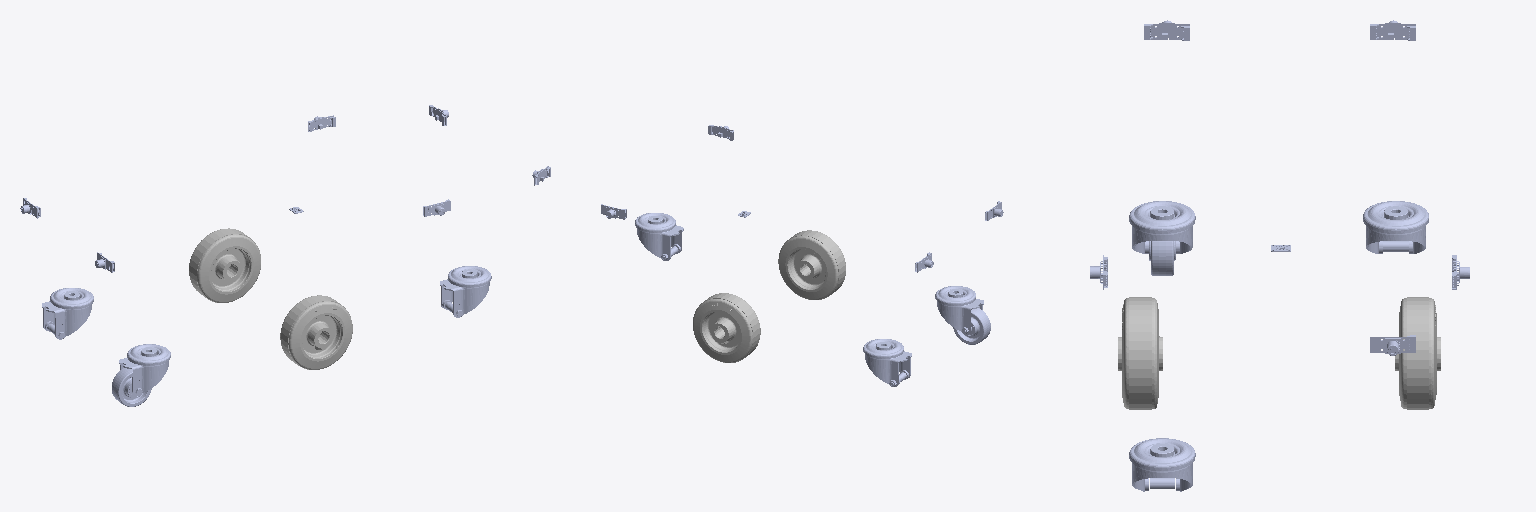
--- Render facts (derived) ---
Views: 3 orthographic renders of the robot side by side, from view 1: azimuth 30°, elevation 25°; view 2: azimuth 150°, elevation 25°; view 3: azimuth 270°, elevation 25°.
Model smr100e2_description with 22 links and 21 joints (10 continuous, 11 fixed), rooted at base_link, posed every joint at zero.
Visible links, largest first — view 1: wheel_right_link, wheel_left_link, caster_rear_left_arm_link, caster_front_right_arm_link, caster_rear_right_arm_link, caster_rear_right_wheel_link; view 2: wheel_left_link, wheel_right_link, caster_rear_left_arm_link, caster_front_right_arm_link, caster_rear_right_arm_link, caster_rear_right_wheel_link; view 3: wheel_right_link, wheel_left_link, caster_rear_left_arm_link, caster_front_right_arm_link, caster_rear_right_arm_link, caster_rear_right_wheel_link, ultrasonic_front_left_link, ultrasonic_rear_right_link, ultrasonic_rear_left_link.
Link boxes in pixels (x1=…): wheel_right_link: x1=280, y1=295, x2=352, y2=369; wheel_left_link: x1=189, y1=228, x2=260, y2=302; caster_rear_left_arm_link: x1=42, y1=288, x2=93, y2=339; caster_front_right_arm_link: x1=440, y1=266, x2=491, y2=317; caster_rear_right_arm_link: x1=119, y1=344, x2=170, y2=395; caster_rear_right_wheel_link: x1=112, y1=368, x2=151, y2=406; wheel_left_link: x1=693, y1=293, x2=760, y2=362; wheel_right_link: x1=778, y1=230, x2=845, y2=299; caster_rear_left_arm_link: x1=863, y1=339, x2=911, y2=386; caster_front_right_arm_link: x1=635, y1=213, x2=683, y2=260; caster_rear_right_arm_link: x1=935, y1=286, x2=983, y2=334; caster_rear_right_wheel_link: x1=953, y1=308, x2=990, y2=344; wheel_right_link: x1=1118, y1=297, x2=1162, y2=409; wheel_left_link: x1=1395, y1=297, x2=1440, y2=409; caster_rear_left_arm_link: x1=1363, y1=201, x2=1428, y2=253; caster_front_right_arm_link: x1=1129, y1=438, x2=1195, y2=491; caster_rear_right_arm_link: x1=1129, y1=201, x2=1195, y2=253; caster_rear_right_wheel_link: x1=1149, y1=241, x2=1175, y2=275; ultrasonic_front_left_link: x1=1370, y1=335, x2=1415, y2=355; ultrasonic_rear_right_link: x1=1144, y1=20, x2=1189, y2=40; ultrasonic_rear_left_link: x1=1370, y1=20, x2=1415, y2=40.
Size in the robot's own frame: 0.9869 by 0.5054 by 0.3376 metres.
12 mesh visuals loaded from 22 distinct referenced files (12 binary STL); not drawn: 10 (reference not matched to a file when rendering).

URDF robot description (smr100e2_description):
<?xml version="1.0" encoding="utf-8"?>
<!-- This URDF was automatically created by SolidWorks to URDF Exporter! Originally created by Stephen Brawner ([email redacted]) 
     Commit Version: 1.5.1-0-g916b5db  Build Version: 1.5.7152.31018
     For more information, please see http://wiki.ros.org/sw_urdf_exporter -->
<robot
  name="smr100e2_description">
  <link
    name="base_link">
    <inertial>
      <origin
        xyz="-0.046026 -0.00048477 0.26269"
        rpy="0 0 0" />
      <mass
        value="31.222" />
      <inertia
        ixx="1.0343"
        ixy="-0.023468"
        ixz="0.035244"
        iyy="2.3307"
        iyz="-0.0070175"
        izz="2.483" />
    </inertial>
    <visual>
      <origin
        xyz="0 0 0"
        rpy="0 0 0" />
      <geometry>
        <mesh
          filename="package://smr100e2_description/meshes/base_link.STL" />
      </geometry>
      <material
        name="">
        <color
          rgba="0.89804 0.91765 0.92941 1" />
      </material>
    </visual>
    <collision>
      <origin
        xyz="0 0 0"
        rpy="0 0 0" />
      <geometry>
        <mesh
          filename="package://smr100e2_description/meshes/base_link.STL" />
      </geometry>
    </collision>
  </link>
  <link
    name="wheel_left_link">
    <inertial>
      <origin
        xyz="5.7206E-08 3.3262E-05 -9.2679E-05"
        rpy="0 0 0" />
      <mass
        value="4.9554" />
      <inertia
        ixx="0.0087272"
        ixy="-4.3288E-09"
        ixz="-2.7053E-08"
        iyy="0.01571"
        iyz="2.8551E-06"
        izz="0.0087185" />
    </inertial>
    <visual>
      <origin
        xyz="0 0 0"
        rpy="0 0 0" />
      <geometry>
        <mesh
          filename="package://smr100e2_description/meshes/wheel_left_link.STL" />
      </geometry>
      <material
        name="">
        <color
          rgba="0.79216 0.79216 0.79216 1" />
      </material>
    </visual>
    <collision>
      <origin
        xyz="0 0 0"
        rpy="0 0 0" />
      <geometry>
        <mesh
          filename="package://smr100e2_description/meshes/wheel_left_link.STL" />
      </geometry>
    </collision>
  </link>
  <joint
    name="wheel_left_joint"
    type="continuous">
    <origin
      xyz="0 0.184 0.075"
      rpy="0 0 0" />
    <parent
      link="base_link" />
    <child
      link="wheel_left_link" />
    <axis
      xyz="0 -1 0" />
    <limit
      effort="0"
      velocity="21" />
  </joint>
  <link
    name="caster_front_left_arm_link">
    <inertial>
      <origin
        xyz="-0.0083559 6.8467E-05 -0.021877"
        rpy="0 0 0" />
      <mass
        value="0.11891" />
      <inertia
        ixx="0.00011866"
        ixy="2.5986E-07"
        ixz="-3.3182E-05"
        iyy="0.00013039"
        iyz="3.8798E-07"
        izz="0.00013729" />
    </inertial>
    <visual>
      <origin
        xyz="0 0 0"
        rpy="0 0 0" />
      <geometry>
        <mesh
          filename="package://smr100e2_description/meshes/caster_front_left_arm_link.STL" />
      </geometry>
      <material
        name="">
        <color
          rgba="0.79216 0.81961 0.93333 1" />
      </material>
    </visual>
    <collision>
      <origin
        xyz="0 0 0"
        rpy="0 0 0" />
      <geometry>
        <mesh
          filename="package://smr100e2_description/meshes/caster_front_left_arm_link.STL" />
      </geometry>
    </collision>
  </link>
  <joint
    name="caster_front_left_arm_joint"
    type="continuous">
    <origin
      xyz="0.3725 0.155 0.11"
      rpy="0 0 0" />
    <parent
      link="base_link" />
    <child
      link="caster_front_left_arm_link" />
    <axis
      xyz="0 0 1" />
  </joint>
  <link
    name="caster_front_left_wheel_link">
    <inertial>
      <origin
        xyz="3.41579619150684E-05 1.00246685701133E-05 9.06356100988104E-06"
        rpy="0 0 0" />
      <mass
        value="0.10622773912148" />
      <inertia
        ixx="5.31582091921393E-05"
        ixy="-1.19552325590283E-08"
        ixz="1.63641579299917E-09"
        iyy="9.07905500875478E-05"
        iyz="-1.30943250319338E-08"
        izz="5.31454154966387E-05" />
    </inertial>
    <visual>
      <origin
        xyz="0 0 0"
        rpy="0 0 0" />
      <geometry>
        <mesh
          filename="package://smr100e2_description/meshes/caster_front_left_wheel_link.STL" />
      </geometry>
      <material
        name="">
        <color
          rgba="0.792156862745098 0.819607843137255 0.933333333333333 1" />
      </material>
    </visual>
    <collision>
      <origin
        xyz="0 0 0"
        rpy="0 0 0" />
      <geometry>
        <mesh
          filename="package://smr100e2_description/meshes/caster_front_left_wheel_link.STL" />
      </geometry>
    </collision>
  </link>
  <joint
    name="caster_front_left_wheel_joint"
    type="continuous">
    <origin
      xyz="-0.04 0 -0.07"
      rpy="0 1.5708 0" />
    <parent
      link="caster_front_left_arm_link" />
    <child
      link="caster_front_left_wheel_link" />
    <axis
      xyz="0 -1 0" />
  </joint>
  <link
    name="caster_rear_left_arm_link">
    <inertial>
      <origin
        xyz="-0.008355850944051 6.84673200635755E-05 -0.0218772617133344"
        rpy="0 0 0" />
      <mass
        value="0.11890585691937" />
      <inertia
        ixx="0.000118659392121093"
        ixy="2.59862865197447E-07"
        ixz="-3.31821021003566E-05"
        iyy="0.000130389155469755"
        iyz="3.87981608747489E-07"
        izz="0.000137285155509039" />
    </inertial>
    <visual>
      <origin
        xyz="0 0 0"
        rpy="0 0 0" />
      <geometry>
        <mesh
          filename="package://smr100e2_description/meshes/caster_rear_left_arm_link.STL" />
      </geometry>
      <material
        name="">
        <color
          rgba="0.792156862745098 0.819607843137255 0.933333333333333 1" />
      </material>
    </visual>
    <collision>
      <origin
        xyz="0 0 0"
        rpy="0 0 0" />
      <geometry>
        <mesh
          filename="package://smr100e2_description/meshes/caster_rear_left_arm_link.STL" />
      </geometry>
    </collision>
  </link>
  <joint
    name="caster_rear_left_arm_joint"
    type="continuous">
    <origin
      xyz="-0.3725 0.155 0.11"
      rpy="0 0 0" />
    <parent
      link="base_link" />
    <child
      link="caster_rear_left_arm_link" />
    <axis
      xyz="0 0 1" />
  </joint>
  <link
    name="caster_rear_left_wheel_link">
    <inertial>
      <origin
        xyz="3.41579619150822E-05 1.002466857003E-05 9.0635610097145E-06"
        rpy="0 0 0" />
      <mass
        value="0.106227739121479" />
      <inertia
        ixx="5.31582091921392E-05"
        ixy="-1.19552325590222E-08"
        ixz="1.63641579318855E-09"
        iyy="9.07905500875474E-05"
        iyz="-1.30943250319557E-08"
        izz="5.31454154966383E-05" />
    </inertial>
    <visual>
      <origin
        xyz="0 0 0"
        rpy="0 0 0" />
      <geometry>
        <mesh
          filename="package://smr100e2_description/meshes/caster_rear_left_wheel_link.STL" />
      </geometry>
      <material
        name="">
        <color
          rgba="0.792156862745098 0.819607843137255 0.933333333333333 1" />
      </material>
    </visual>
    <collision>
      <origin
        xyz="0 0 0"
        rpy="0 0 0" />
      <geometry>
        <mesh
          filename="package://smr100e2_description/meshes/caster_rear_left_wheel_link.STL" />
      </geometry>
    </collision>
  </link>
  <joint
    name="caster_rear_left_wheel_joint"
    type="continuous">
    <origin
      xyz="-0.04 0 -0.07"
      rpy="0 1.5708 0" />
    <parent
      link="caster_rear_left_arm_link" />
    <child
      link="caster_rear_left_wheel_link" />
    <axis
      xyz="0 -1 0" />
  </joint>
  <link
    name="wheel_right_link">
    <inertial>
      <origin
        xyz="-5.72059102653878E-08 -3.32621060118998E-05 -9.26789475841489E-05"
        rpy="0 0 0" />
      <mass
        value="4.95544635924953" />
      <inertia
        ixx="0.00872719589168906"
        ixy="-4.32876753760574E-09"
        ixz="2.70527246089118E-08"
        iyy="0.0157098593873957"
        iyz="-2.85508393702386E-06"
        izz="0.00871854767880612" />
    </inertial>
    <visual>
      <origin
        xyz="0 0 0"
        rpy="0 0 0" />
      <geometry>
        <mesh
          filename="package://smr100e2_description/meshes/wheel_right_link.STL" />
      </geometry>
      <material
        name="">
        <color
          rgba="0.792156862745098 0.792156862745098 0.792156862745098 1" />
      </material>
    </visual>
    <collision>
      <origin
        xyz="0 0 0"
        rpy="0 0 0" />
      <geometry>
        <mesh
          filename="package://smr100e2_description/meshes/wheel_right_link.STL" />
      </geometry>
    </collision>
  </link>
  <joint
    name="wheel_right_joint"
    type="continuous">
    <origin
      xyz="0 -0.184 0.075"
      rpy="0 0 0" />
    <parent
      link="base_link" />
    <child
      link="wheel_right_link" />
    <axis
      xyz="0 1 0" />
    <limit
      effort="0"
      velocity="21" />
  </joint>
  <link
    name="caster_front_right_arm_link">
    <inertial>
      <origin
        xyz="-0.00835585094405666 6.84673200636032E-05 -0.0218772617133322"
        rpy="0 0 0" />
      <mass
        value="0.118905856919371" />
      <inertia
        ixx="0.000118659392121077"
        ixy="2.59862865197085E-07"
        ixz="-3.31821021003519E-05"
        iyy="0.000130389155469756"
        iyz="3.87981608747766E-07"
        izz="0.000137285155509056" />
    </inertial>
    <visual>
      <origin
        xyz="0 0 0"
        rpy="0 0 0" />
      <geometry>
        <mesh
          filename="package://smr100e2_description/meshes/caster_front_right_arm_link.STL" />
      </geometry>
      <material
        name="">
        <color
          rgba="0.792156862745098 0.819607843137255 0.933333333333333 1" />
      </material>
    </visual>
    <collision>
      <origin
        xyz="0 0 0"
        rpy="0 0 0" />
      <geometry>
        <mesh
          filename="package://smr100e2_description/meshes/caster_front_right_arm_link.STL" />
      </geometry>
    </collision>
  </link>
  <joint
    name="caster_front_right_arm_joint"
    type="continuous">
    <origin
      xyz="0.3725 -0.155 0.11"
      rpy="0 0 0" />
    <parent
      link="base_link" />
    <child
      link="caster_front_right_arm_link" />
    <axis
      xyz="0 0 1" />
  </joint>
  <link
    name="caster_front_right_wheel_link">
    <inertial>
      <origin
        xyz="3.41579619150337E-05 1.00246685700023E-05 9.0635610097145E-06"
        rpy="0 0 0" />
      <mass
        value="0.106227739121479" />
      <inertia
        ixx="5.31582091921392E-05"
        ixy="-1.19552325589556E-08"
        ixz="1.63641579320449E-09"
        iyy="9.07905500875475E-05"
        iyz="-1.30943250318352E-08"
        izz="5.31454154966384E-05" />
    </inertial>
    <visual>
      <origin
        xyz="0 0 0"
        rpy="0 0 0" />
      <geometry>
        <mesh
          filename="package://smr100e2_description/meshes/caster_front_right_wheel_link.STL" />
      </geometry>
      <material
        name="">
        <color
          rgba="0.792156862745098 0.819607843137255 0.933333333333333 1" />
      </material>
    </visual>
    <collision>
      <origin
        xyz="0 0 0"
        rpy="0 0 0" />
      <geometry>
        <mesh
          filename="package://smr100e2_description/meshes/caster_front_right_wheel_link.STL" />
      </geometry>
    </collision>
  </link>
  <joint
    name="caster_front_right_wheel_joint"
    type="continuous">
    <origin
      xyz="-0.04 0 -0.07"
      rpy="0 1.5708 0" />
    <parent
      link="caster_front_right_arm_link" />
    <child
      link="caster_front_right_wheel_link" />
    <axis
      xyz="0 1 0" />
  </joint>
  <link
    name="caster_rear_right_arm_link">
    <inertial>
      <origin
        xyz="-0.0083558509440565 6.8467320063742E-05 -0.0218772617133322"
        rpy="0 0 0" />
      <mass
        value="0.118905856919369" />
      <inertia
        ixx="0.000118659392121076"
        ixy="2.59862865197262E-07"
        ixz="-3.31821021003519E-05"
        iyy="0.000130389155469755"
        iyz="3.87981608748015E-07"
        izz="0.000137285155509056" />
    </inertial>
    <visual>
      <origin
        xyz="0 0 0"
        rpy="0 0 0" />
      <geometry>
        <mesh
          filename="package://smr100e2_description/meshes/caster_rear_right_arm_link.STL" />
      </geometry>
      <material
        name="">
        <color
          rgba="0.792156862745098 0.819607843137255 0.933333333333333 1" />
      </material>
    </visual>
    <collision>
      <origin
        xyz="0 0 0"
        rpy="0 0 0" />
      <geometry>
        <mesh
          filename="package://smr100e2_description/meshes/caster_rear_right_arm_link.STL" />
      </geometry>
    </collision>
  </link>
  <joint
    name="caster_rear_right_arm_joint"
    type="continuous">
    <origin
      xyz="-0.3725 -0.155 0.11"
      rpy="0 0 0" />
    <parent
      link="base_link" />
    <child
      link="caster_rear_right_arm_link" />
    <axis
      xyz="0 0 1" />
  </joint>
  <link
    name="caster_rear_right_wheel_link">
    <inertial>
      <origin
        xyz="3.41579619150337E-05 1.00246685700578E-05 9.06356100960348E-06"
        rpy="0 0 0" />
      <mass
        value="0.10622773912148" />
      <inertia
        ixx="5.31582091921392E-05"
        ixy="-1.19552325589846E-08"
        ixz="1.63641579317299E-09"
        iyy="9.07905500875477E-05"
        iyz="-1.30943250317913E-08"
        izz="5.31454154966386E-05" />
    </inertial>
    <visual>
      <origin
        xyz="0 0 0"
        rpy="0 0 0" />
      <geometry>
        <mesh
          filename="package://smr100e2_description/meshes/caster_rear_right_wheel_link.STL" />
      </geometry>
      <material
        name="">
        <color
          rgba="0.792156862745098 0.819607843137255 0.933333333333333 1" />
      </material>
    </visual>
    <collision>
      <origin
        xyz="0 0 0"
        rpy="0 0 0" />
      <geometry>
        <mesh
          filename="package://smr100e2_description/meshes/caster_rear_right_wheel_link.STL" />
      </geometry>
    </collision>
  </link>
  <joint
    name="caster_rear_right_wheel_joint"
    type="continuous">
    <origin
      xyz="-0.04 0 -0.07"
      rpy="0 1.5708 0" />
    <parent
      link="caster_rear_right_arm_link" />
    <child
      link="caster_rear_right_wheel_link" />
    <axis
      xyz="0 1 0" />
  </joint>
  <link
    name="lidar_front_right_link">
    <inertial>
      <origin
        xyz="-0.00233498111285663 -1.38297305401132E-06 -0.0129543211216719"
        rpy="0 0 0" />
      <mass
        value="0.096744416647924" />
      <inertia
        ixx="6.75053726522406E-05"
        ixy="-4.85105087585742E-08"
        ixz="-2.38171293229343E-06"
        iyy="8.2230289282585E-05"
        iyz="-1.88559800565705E-08"
        izz="0.000116331697118463" />
    </inertial>
    <visual>
      <origin
        xyz="0 0 0"
        rpy="0 0 0" />
      <geometry>
        <mesh
          filename="package://smr100e2_description/meshes/lidar_front_right_link.STL" />
      </geometry>
      <material
        name="">
        <color
          rgba="0.898039215686275 0.917647058823529 0.929411764705882 1" />
      </material>
    </visual>
    <collision>
      <origin
        xyz="0 0 0"
        rpy="0 0 0" />
      <geometry>
        <mesh
          filename="package://smr100e2_description/meshes/lidar_front_right_link.STL" />
      </geometry>
    </collision>
  </link>
  <joint
    name="lidar_front_right_joint"
    type="fixed">
    <origin
      xyz="0.4425 0 0.15335"
      rpy="0 0 0" />
    <parent
      link="base_link" />
    <child
      link="lidar_front_right_link" />
    <axis
      xyz="0 0 0" />
  </joint>
  <link
    name="lidar_rear_left_link">
    <inertial>
      <origin
        xyz="-0.00233498111285729 -1.38297305494147E-06 -0.0129543211216724"
        rpy="0 0 0" />
      <mass
        value="0.0967444166479226" />
      <inertia
        ixx="6.75053726522404E-05"
        ixy="-4.85105087574827E-08"
        ixz="-2.38171293229237E-06"
        iyy="8.22302892825826E-05"
        iyz="-1.88559800556491E-08"
        izz="0.000116331697118462" />
    </inertial>
    <visual>
      <origin
        xyz="0 0 0"
        rpy="0 0 0" />
      <geometry>
        <mesh
          filename="package://smr100e2_description/meshes/lidar_rear_left_link.STL" />
      </geometry>
      <material
        name="">
        <color
          rgba="0.898039215686275 0.917647058823529 0.929411764705882 1" />
      </material>
    </visual>
    <collision>
      <origin
        xyz="0 0 0"
        rpy="0 0 0" />
      <geometry>
        <mesh
          filename="package://smr100e2_description/meshes/lidar_rear_left_link.STL" />
      </geometry>
    </collision>
  </link>
  <joint
    name="lidar_rear_left_joint"
    type="fixed">
    <origin
      xyz="-0.4425 0 0.15335"
      rpy="0 0 3.1416" />
    <parent
      link="base_link" />
    <child
      link="lidar_rear_left_link" />
    <axis
      xyz="0 0 0" />
  </joint>
  <link
    name="imu_link">
    <inertial>
      <origin
        xyz="-6.9350586529713E-05 2.10656642644566E-05 -0.00172272577964405"
        rpy="0 0 0" />
      <mass
        value="0.000911356888660493" />
      <inertia
        ixx="2.8541034821061E-08"
        ixy="-2.22197427857319E-10"
        ixz="7.87903579180546E-11"
        iyy="4.99346433608488E-08"
        iyz="-4.13194761847017E-11"
        izz="7.78569805080495E-08" />
    </inertial>
    <visual>
      <origin
        xyz="0 0 0"
        rpy="0 0 0" />
      <geometry>
        <mesh
          filename="package://smr100e2_description/meshes/imu_link.STL" />
      </geometry>
      <material
        name="">
        <color
          rgba="0.792156862745098 0.819607843137255 0.933333333333333 1" />
      </material>
    </visual>
    <collision>
      <origin
        xyz="0 0 0"
        rpy="0 0 0" />
      <geometry>
        <mesh
          filename="package://smr100e2_description/meshes/imu_link.STL" />
      </geometry>
    </collision>
  </link>
  <joint
    name="imu_joint"
    type="fixed">
    <origin
      xyz="0.061 0.0025 0.2591"
      rpy="0 0 -1.5708" />
    <parent
      link="base_link" />
    <child
      link="imu_link" />
    <axis
      xyz="0 0 0" />
  </joint>
  <link
    name="ultrasonic_front_right_side_link">
    <inertial>
      <origin
        xyz="-0.0140934459768421 0.000342739553301497 -0.000343035134600544"
        rpy="0 0 0" />
      <mass
        value="0.00862358242165751" />
      <inertia
        ixx="1.88412480130025E-06"
        ixy="1.71411632756251E-08"
        ixz="-1.98565508058437E-08"
        iyy="6.52390756644082E-07"
        iyz="-2.04292873861296E-08"
        izz="2.00499062028754E-06" />
    </inertial>
    <visual>
      <origin
        xyz="0 0 0"
        rpy="0 0 0" />
      <geometry>
        <mesh
          filename="package://smr100e2_description/meshes/ultrasonic_front_right_side_link.STL" />
      </geometry>
      <material
        name="">
        <color
          rgba="0.792156862745098 0.819607843137255 0.933333333333333 1" />
      </material>
    </visual>
    <collision>
      <origin
        xyz="0 0 0"
        rpy="0 0 0" />
      <geometry>
        <mesh
          filename="package://smr100e2_description/meshes/ultrasonic_front_right_side_link.STL" />
      </geometry>
    </collision>
  </link>
  <joint
    name="ultrasonic_front_right_side_joint"
    type="fixed">
    <origin
      xyz="0.2522 -0.2517 0.3115"
      rpy="0 0 -1.5708" />
    <parent
      link="base_link" />
    <child
      link="ultrasonic_front_right_side_link" />
    <axis
      xyz="0 0 0" />
  </joint>
  <link
    name="ultrasonic_rear_right_side_link">
    <inertial>
      <origin
        xyz="-0.014093445976842 0.000342739553301497 -0.0003430351346006"
        rpy="0 0 0" />
      <mass
        value="0.0086235824216575" />
      <inertia
        ixx="1.88412480130025E-06"
        ixy="1.71411632756239E-08"
        ixz="-1.98565508058438E-08"
        iyy="6.52390756644079E-07"
        iyz="-2.04292873861312E-08"
        izz="2.00499062028754E-06" />
    </inertial>
    <visual>
      <origin
        xyz="0 0 0"
        rpy="0 0 0" />
      <geometry>
        <mesh
          filename="package://smr100e2_description/meshes/ultrasonic_rear_right_side_link.STL" />
      </geometry>
      <material
        name="">
        <color
          rgba="0.792156862745098 0.819607843137255 0.933333333333333 1" />
      </material>
    </visual>
    <collision>
      <origin
        xyz="0 0 0"
        rpy="0 0 0" />
      <geometry>
        <mesh
          filename="package://smr100e2_description/meshes/ultrasonic_rear_right_side_link.STL" />
      </geometry>
    </collision>
  </link>
  <joint
    name="ultrasonic_rear_right_side_joint"
    type="fixed">
    <origin
      xyz="-0.2878 -0.2517 0.3115"
      rpy="0 0 -1.5708" />
    <parent
      link="base_link" />
    <child
      link="ultrasonic_rear_right_side_link" />
    <axis
      xyz="0 0 0" />
  </joint>
  <link
    name="ultrasonic_rear_right_link">
    <inertial>
      <origin
        xyz="-0.0140934459768421 0.000342739553301497 -0.000343035134600655"
        rpy="0 0 0" />
      <mass
        value="0.00862358242165749" />
      <inertia
        ixx="1.88412480130025E-06"
        ixy="1.71411632756204E-08"
        ixz="-1.98565508058432E-08"
        iyy="6.5239075664408E-07"
        iyz="-2.04292873861313E-08"
        izz="2.00499062028753E-06" />
    </inertial>
    <visual>
      <origin
        xyz="0 0 0"
        rpy="0 0 0" />
      <geometry>
        <mesh
          filename="package://smr100e2_description/meshes/ultrasonic_rear_right_link.STL" />
      </geometry>
      <material
        name="">
        <color
          rgba="0.792156862745098 0.819607843137255 0.933333333333333 1" />
      </material>
    </visual>
    <collision>
      <origin
        xyz="0 0 0"
        rpy="0 0 0" />
      <geometry>
        <mesh
          filename="package://smr100e2_description/meshes/ultrasonic_rear_right_link.STL" />
      </geometry>
    </collision>
  </link>
  <joint
    name="ultrasonic_rear_right_joint"
    type="fixed">
    <origin
      xyz="-0.4902 -0.1487 0.3265"
      rpy="0 0 3.1416" />
    <parent
      link="base_link" />
    <child
      link="ultrasonic_rear_right_link" />
    <axis
      xyz="0 0 0" />
  </joint>
  <link
    name="ultrasonic_rear_left_link">
    <inertial>
      <origin
        xyz="-0.014093445976842 0.000342739553301497 -0.000343035134600711"
        rpy="0 0 0" />
      <mass
        value="0.00862358242165748" />
      <inertia
        ixx="1.88412480130025E-06"
        ixy="1.71411632756221E-08"
        ixz="-1.98565508058438E-08"
        iyy="6.52390756644077E-07"
        iyz="-2.0429287386132E-08"
        izz="2.00499062028753E-06" />
    </inertial>
    <visual>
      <origin
        xyz="0 0 0"
        rpy="0 0 0" />
      <geometry>
        <mesh
          filename="package://smr100e2_description/meshes/ultrasonic_rear_left_link.STL" />
      </geometry>
      <material
        name="">
        <color
          rgba="0.792156862745098 0.819607843137255 0.933333333333333 1" />
      </material>
    </visual>
    <collision>
      <origin
        xyz="0 0 0"
        rpy="0 0 0" />
      <geometry>
        <mesh
          filename="package://smr100e2_description/meshes/ultrasonic_rear_left_link.STL" />
      </geometry>
    </collision>
  </link>
  <joint
    name="ultrasonic_rear_left_joint"
    type="fixed">
    <origin
      xyz="-0.4902 0.1513 0.3265"
      rpy="0 0 3.1416" />
    <parent
      link="base_link" />
    <child
      link="ultrasonic_rear_left_link" />
    <axis
      xyz="0 0 0" />
  </joint>
  <link
    name="ultrasonic_rear_left_side_link">
    <inertial>
      <origin
        xyz="-0.014093445976842 0.000342739553301497 -0.000343035134600544"
        rpy="0 0 0" />
      <mass
        value="0.00862358242165751" />
      <inertia
        ixx="1.88412480130026E-06"
        ixy="1.71411632756226E-08"
        ixz="-1.98565508058443E-08"
        iyy="6.52390756644085E-07"
        iyz="-2.04292873861324E-08"
        izz="2.00499062028755E-06" />
    </inertial>
    <visual>
      <origin
        xyz="0 0 0"
        rpy="0 0 0" />
      <geometry>
        <mesh
          filename="package://smr100e2_description/meshes/ultrasonic_rear_left_side_link.STL" />
      </geometry>
      <material
        name="">
        <color
          rgba="0.792156862745098 0.819607843137255 0.933333333333333 1" />
      </material>
    </visual>
    <collision>
      <origin
        xyz="0 0 0"
        rpy="0 0 0" />
      <geometry>
        <mesh
          filename="package://smr100e2_description/meshes/ultrasonic_rear_left_side_link.STL" />
      </geometry>
    </collision>
  </link>
  <joint
    name="ultrasonic_rear_left_side_link"
    type="fixed">
    <origin
      xyz="-0.2872 0.2537 0.3115"
      rpy="0 0 1.5708" />
    <parent
      link="base_link" />
    <child
      link="ultrasonic_rear_left_side_link" />
    <axis
      xyz="0 0 0" />
  </joint>
  <link
    name="ultrasonic_front_left_side_link">
    <inertial>
      <origin
        xyz="-0.014093445976842 0.000342739553301497 -0.000343035134600544"
        rpy="0 0 0" />
      <mass
        value="0.00862358242165751" />
      <inertia
        ixx="1.88412480130025E-06"
        ixy="1.71411632756236E-08"
        ixz="-1.9856550805845E-08"
        iyy="6.52390756644085E-07"
        iyz="-2.04292873861329E-08"
        izz="2.00499062028754E-06" />
    </inertial>
    <visual>
      <origin
        xyz="0 0 0"
        rpy="0 0 0" />
      <geometry>
        <mesh
          filename="package://smr100e2_description/meshes/ultrasonic_front_left_side_link.STL" />
      </geometry>
      <material
        name="">
        <color
          rgba="0.792156862745098 0.819607843137255 0.933333333333333 1" />
      </material>
    </visual>
    <collision>
      <origin
        xyz="0 0 0"
        rpy="0 0 0" />
      <geometry>
        <mesh
          filename="package://smr100e2_description/meshes/ultrasonic_front_left_side_link.STL" />
      </geometry>
    </collision>
  </link>
  <joint
    name="ultrasonic_front_left_side_joint"
    type="fixed">
    <origin
      xyz="0.2528 0.2537 0.3115"
      rpy="0 0 1.5708" />
    <parent
      link="base_link" />
    <child
      link="ultrasonic_front_left_side_link" />
    <axis
      xyz="0 0 0" />
  </joint>
  <link
    name="ultrasonic_front_left_link">
    <inertial>
      <origin
        xyz="-0.014093445976842 0.000342739553301497 -0.000343035134600711"
        rpy="0 0 0" />
      <mass
        value="0.00862358242165747" />
      <inertia
        ixx="1.88412480130024E-06"
        ixy="1.71411632756236E-08"
        ixz="-1.98565508058437E-08"
        iyy="6.52390756644079E-07"
        iyz="-2.04292873861308E-08"
        izz="2.00499062028753E-06" />
    </inertial>
    <visual>
      <origin
        xyz="0 0 0"
        rpy="0 0 0" />
      <geometry>
        <mesh
          filename="package://smr100e2_description/meshes/ultrasonic_front_left_link.STL" />
      </geometry>
      <material
        name="">
        <color
          rgba="0.792156862745098 0.819607843137255 0.933333333333333 1" />
      </material>
    </visual>
    <collision>
      <origin
        xyz="0 0 0"
        rpy="0 0 0" />
      <geometry>
        <mesh
          filename="package://smr100e2_description/meshes/ultrasonic_front_left_link.STL" />
      </geometry>
    </collision>
  </link>
  <joint
    name="ultrasonic_front_left_link"
    type="fixed">
    <origin
      xyz="0.4967 0.1507 0.311"
      rpy="0 0 0" />
    <parent
      link="base_link" />
    <child
      link="ultrasonic_front_left_link" />
    <axis
      xyz="0 0 0" />
  </joint>
  <link
    name="ultrasonic_front_right_link">
    <inertial>
      <origin
        xyz="-0.0140934459768419 0.000342739553301497 -0.000343035134600544"
        rpy="0 0 0" />
      <mass
        value="0.00862358242165747" />
      <inertia
        ixx="1.88412480130024E-06"
        ixy="1.71411632756226E-08"
        ixz="-1.9856550805844E-08"
        iyy="6.52390756644078E-07"
        iyz="-2.042928738613E-08"
        izz="2.00499062028753E-06" />
    </inertial>
    <visual>
      <origin
        xyz="0 0 0"
        rpy="0 0 0" />
      <geometry>
        <mesh
          filename="package://smr100e2_description/meshes/ultrasonic_front_right_link.STL" />
      </geometry>
      <material
        name="">
        <color
          rgba="0.792156862745098 0.819607843137255 0.933333333333333 1" />
      </material>
    </visual>
    <collision>
      <origin
        xyz="0 0 0"
        rpy="0 0 0" />
      <geometry>
        <mesh
          filename="package://smr100e2_description/meshes/ultrasonic_front_right_link.STL" />
      </geometry>
    </collision>
  </link>
  <joint
    name="ultrasonic_front_right_right"
    type="fixed">
    <origin
      xyz="0.4967 -0.1493 0.311"
      rpy="0 0 0" />
    <parent
      link="base_link" />
    <child
      link="ultrasonic_front_right_link" />
    <axis
      xyz="0 0 0" />
  </joint>
</robot>
